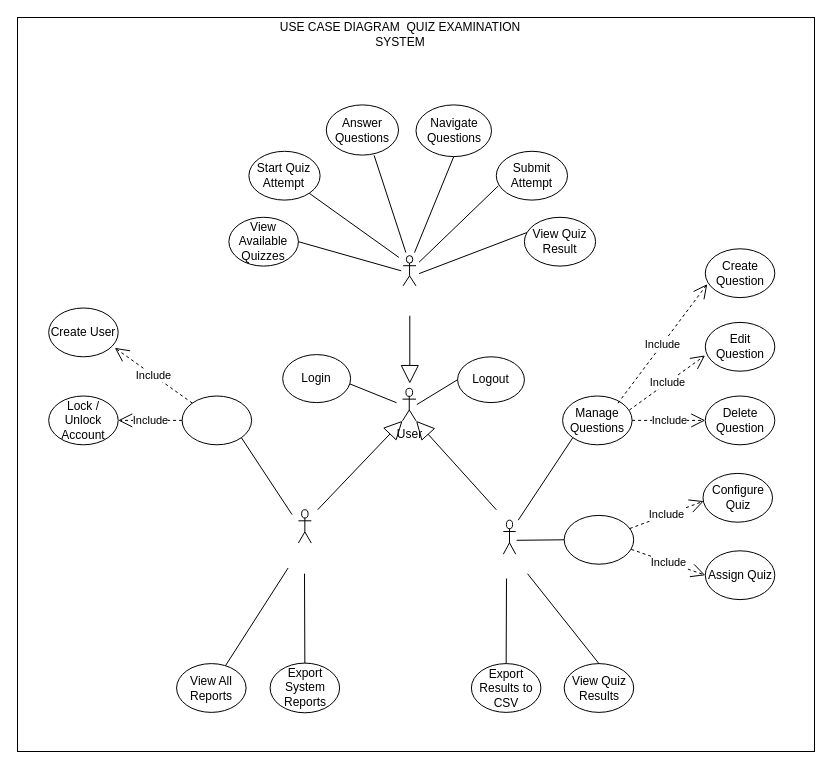
Image size: 832x769. Some labels were removed from this diagram. The box of each missing label's shape, as (x1, y1, x2, y2) in pixels:
Admin: (297, 509, 311, 543)
Create Quiz: (563, 514, 634, 564)
Manage Users: (181, 395, 252, 445)
Student: (402, 255, 416, 286)
Teacher: (502, 519, 516, 554)
